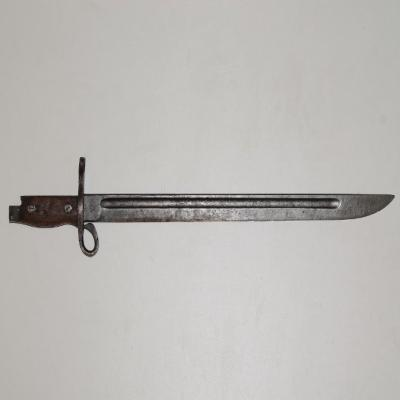weapon: (8, 160, 395, 258)
